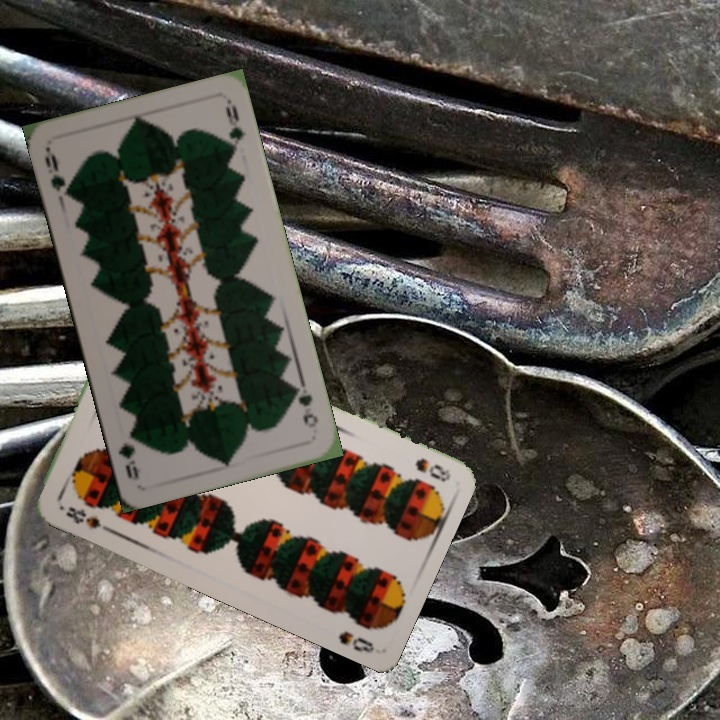G9: (40, 144, 75, 200), (289, 380, 321, 430)
S8: (62, 502, 111, 534), (411, 454, 453, 485)
